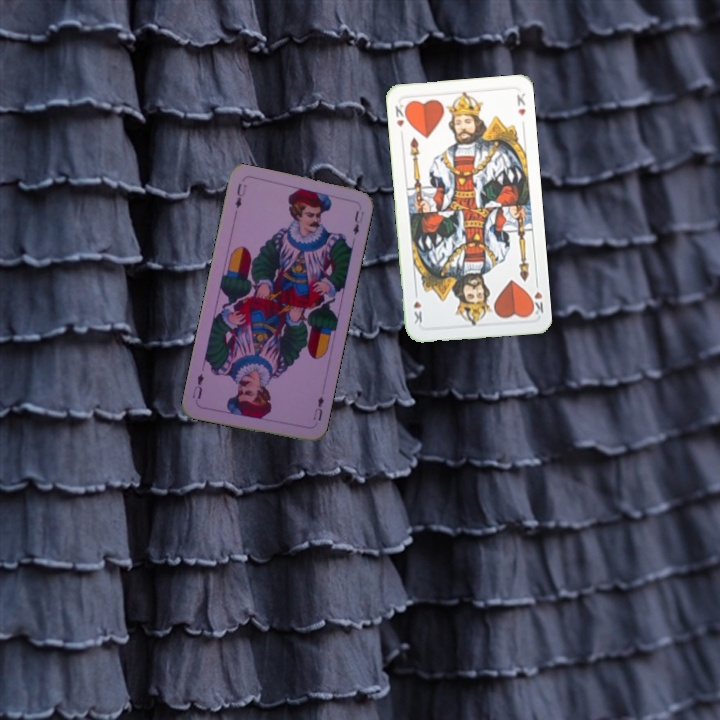EU: (309, 392, 327, 424), (231, 179, 249, 211)
HK: (526, 277, 546, 317), (391, 100, 410, 130)
